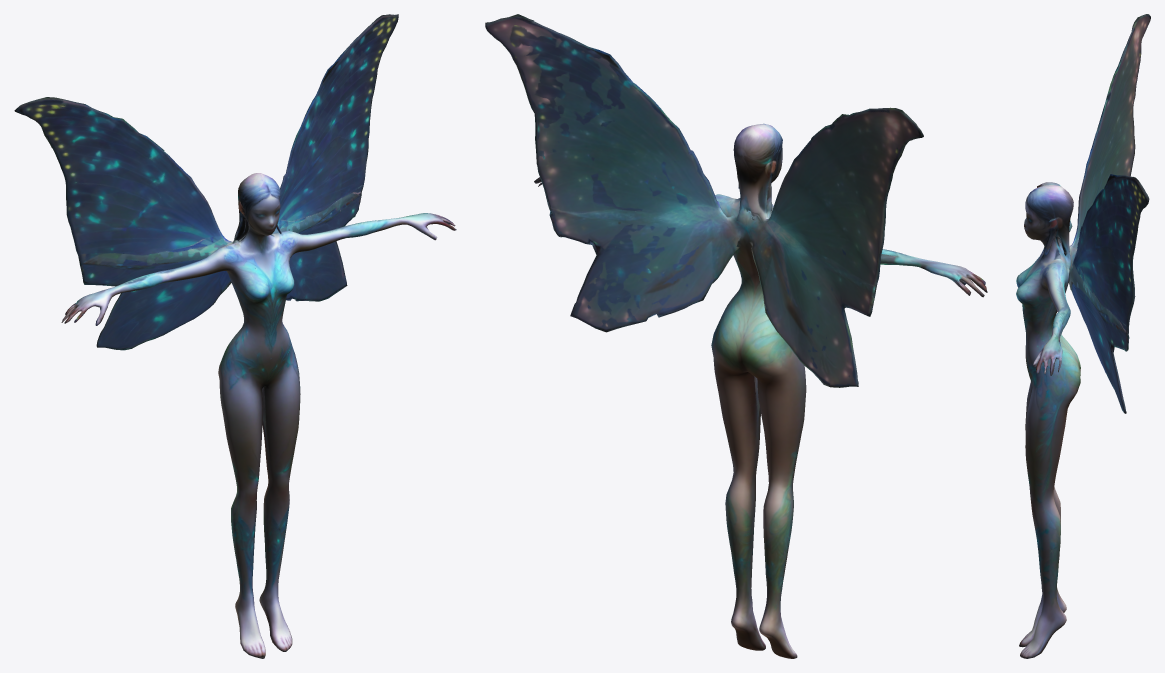
Rendered from Design_a_fairy_like_c_0125160307_texture.fbx.
The picture shows the model from 3 angles, left to right: view 1: azimuth 30°, elevation 25°; view 2: azimuth 150°, elevation 25°; view 3: azimuth 270°, elevation 25°; orthographic projection. The views are drawn at different scales.
Visible parts, largest first — view 1: Mesh_0.002; view 2: Mesh_0.002; view 3: Mesh_0.002.
Boxes of the visible parts, box(x1,y1,x2,y2) form: Mesh_0.002: box(14, 14, 456, 658); Mesh_0.002: box(485, 14, 987, 658); Mesh_0.002: box(1016, 14, 1150, 658).
Bounding box in the file's own units: 147 × 200 × 44.22.
1 material, 1 textured.
